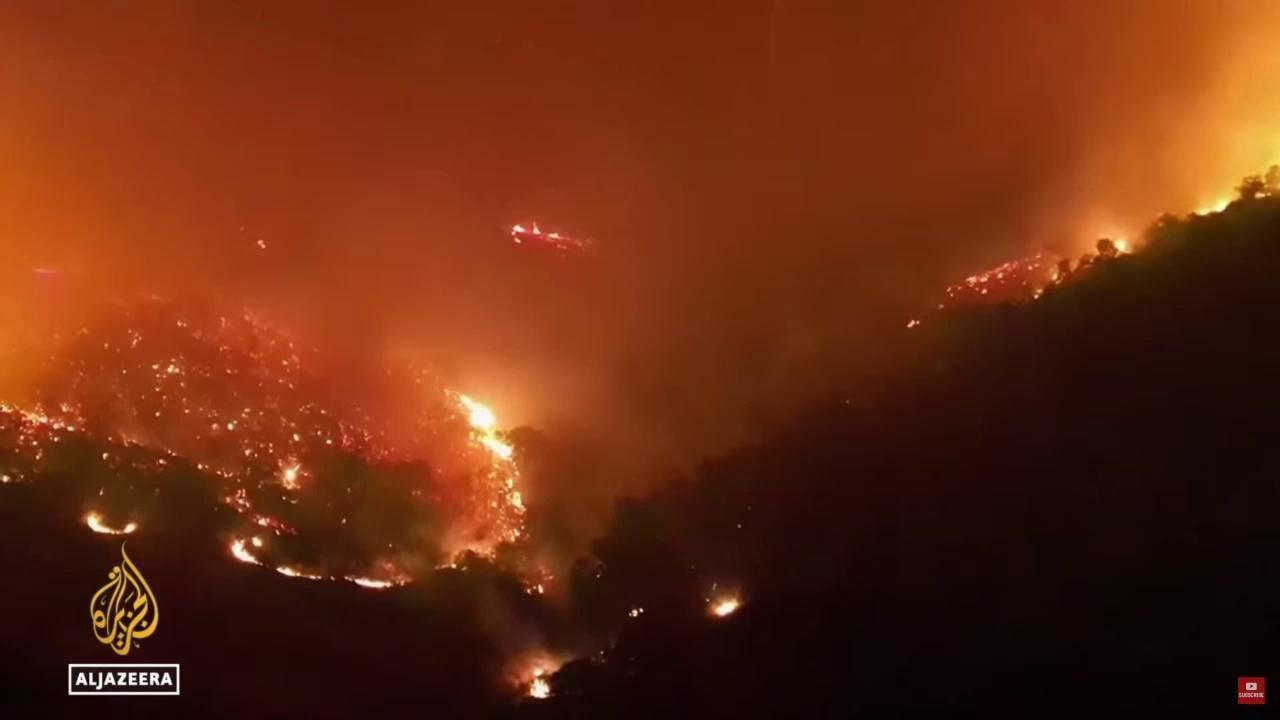fire: (438, 383, 529, 568), (0, 393, 91, 485), (937, 248, 1049, 305), (505, 221, 587, 253), (342, 555, 409, 590), (81, 509, 141, 535), (521, 660, 556, 701), (271, 453, 306, 494), (1188, 191, 1237, 217), (227, 532, 262, 568), (256, 514, 300, 539), (700, 592, 740, 619), (274, 564, 324, 579), (222, 488, 251, 513), (1103, 239, 1132, 257), (901, 317, 925, 332), (165, 364, 187, 377), (622, 607, 646, 617), (522, 584, 545, 594), (254, 238, 270, 250), (240, 406, 254, 418), (227, 417, 238, 430), (291, 431, 302, 442), (149, 362, 162, 370), (156, 458, 168, 466), (165, 449, 177, 457), (1053, 273, 1062, 283), (101, 451, 110, 461), (325, 439, 334, 445), (155, 410, 161, 419), (198, 463, 202, 471)
smoke: (0, 0, 1280, 720)
